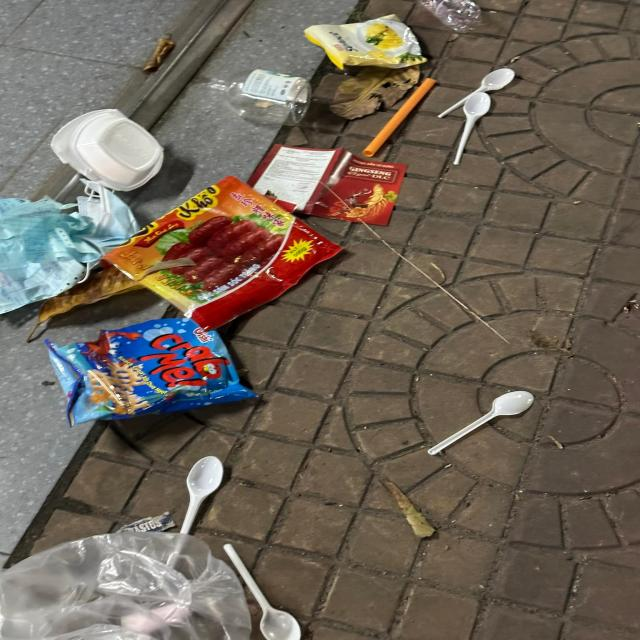bag: (0, 531, 252, 640)
bottle: (206, 69, 314, 125)
drinking straw: (364, 77, 436, 157)
foam box: (51, 108, 164, 191)
mask: (77, 194, 141, 238)
paper: (246, 144, 407, 226), (0, 196, 97, 316)
plastic utensil: (224, 542, 302, 640), (428, 390, 535, 456), (168, 456, 223, 568), (438, 68, 515, 119), (453, 93, 492, 165)
snack package: (98, 175, 343, 332), (44, 318, 260, 428), (305, 14, 428, 70)
